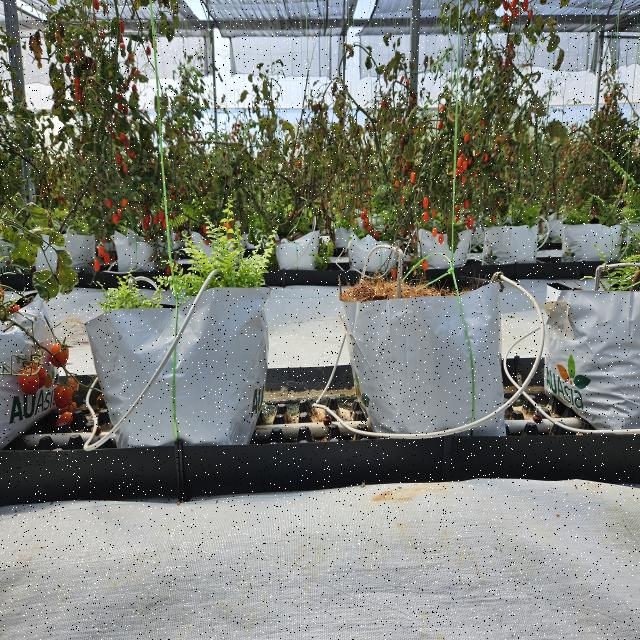Soilbag: (336, 264, 520, 448), (82, 289, 273, 448)
